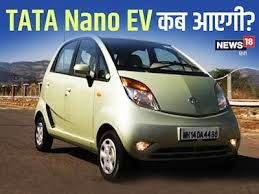Nano: (32, 35, 241, 178)
